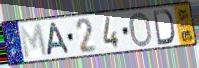2: (75, 17, 99, 55)
4: (102, 15, 120, 50)
A: (46, 21, 72, 57)
D: (152, 8, 176, 46)
M: (18, 22, 50, 61)
O: (129, 11, 154, 48)
